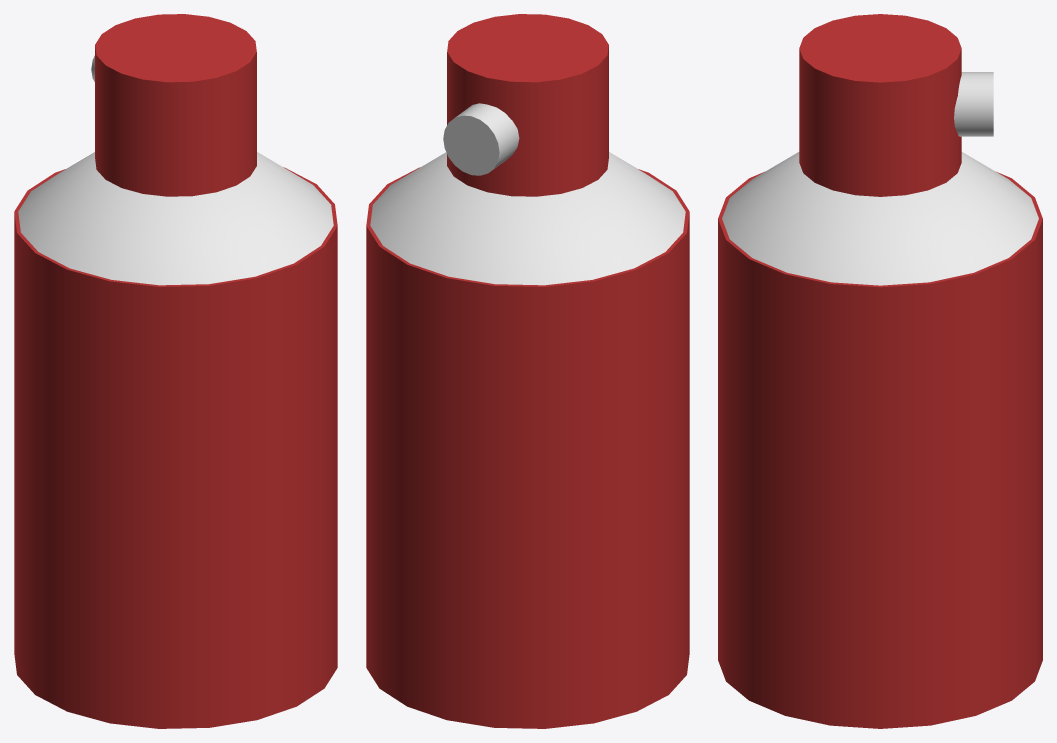
The model's file is PaintCan.fbx.
The picture shows the model from 3 angles, left to right: view 1: azimuth 30°, elevation 25°; view 2: azimuth 150°, elevation 25°; view 3: azimuth 270°, elevation 25°; orthographic projection.
Visible parts, largest first — view 1: pCylinder1, pCone1, pCylinder2; view 2: pCylinder1, pCone1, pCylinder2, pCylinder3; view 3: pCylinder1, pCone1, pCylinder2, pCylinder3.
Boxes of the visible parts, x1,y1,x2,y2 form: pCylinder1: [14, 167, 337, 728]; pCone1: [18, 152, 333, 285]; pCylinder2: [95, 14, 256, 196]; pCylinder1: [366, 167, 689, 728]; pCone1: [370, 152, 685, 285]; pCylinder2: [447, 14, 608, 196]; pCylinder3: [443, 103, 519, 175]; pCylinder1: [718, 171, 1042, 728]; pCone1: [722, 152, 1038, 285]; pCylinder2: [799, 14, 961, 196]; pCylinder3: [954, 72, 993, 136].
Bounding box in the file's own units: 2 × 4.16 × 2.
